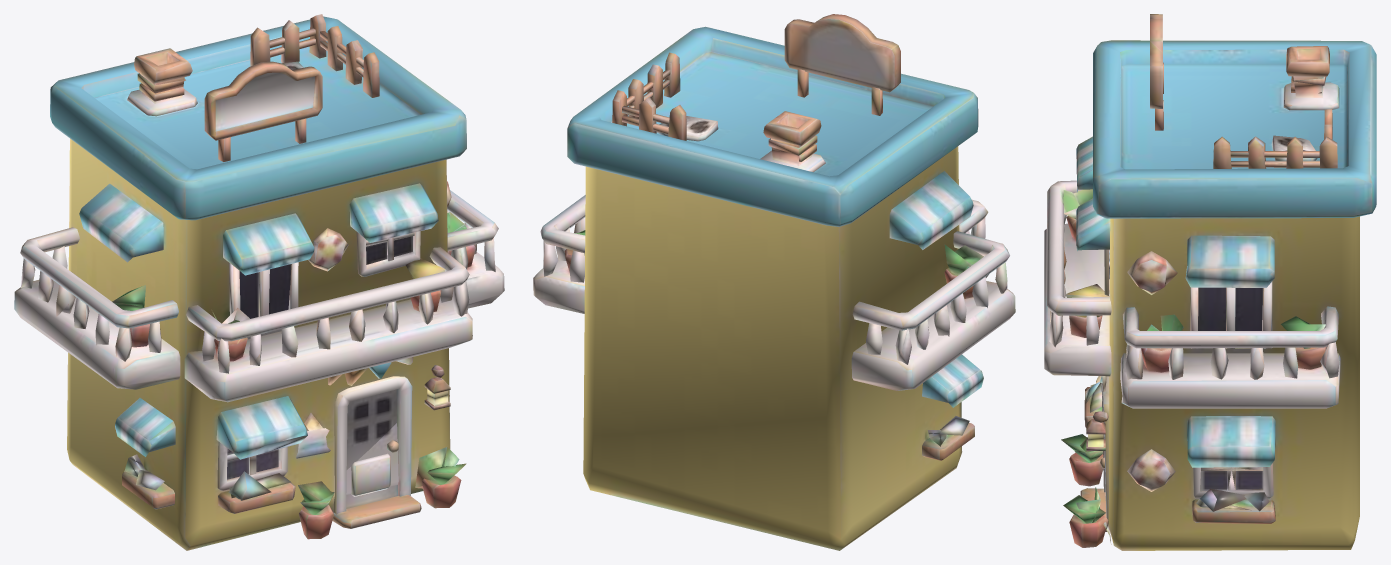
Rendered from hotel.glb.
The picture shows the model from 3 angles, left to right: view 1: azimuth 30°, elevation 25°; view 2: azimuth 150°, elevation 25°; view 3: azimuth 270°, elevation 25°; orthographic projection.
Bounding box in the file's own units: 0.8623 × 0.9546 × 0.6386.
Materials: 1 (1 with a texture image).
